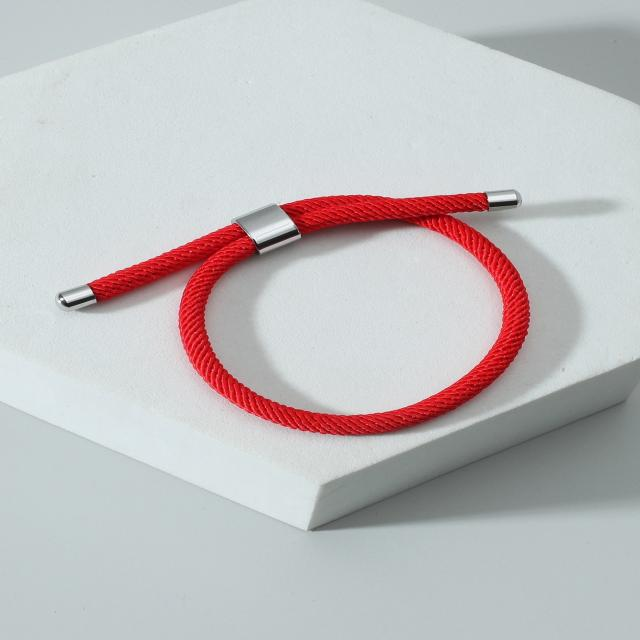bracelet: (0, 111, 640, 585)
